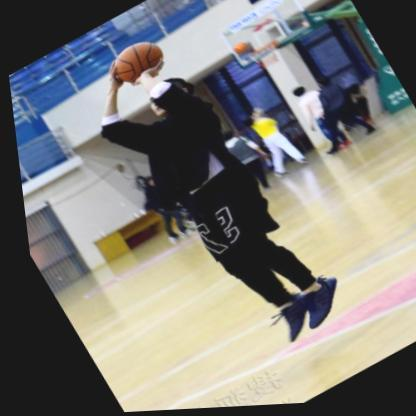basketball: (102, 36, 169, 91)
